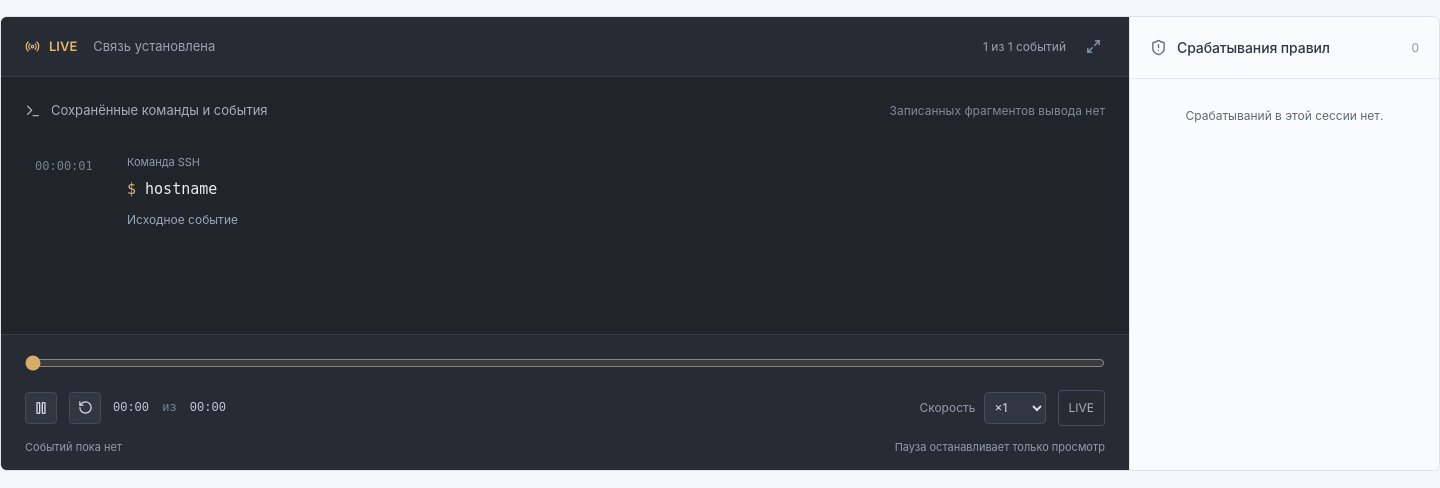
Scenario: session player interactions › retains the paused view on catch-up failure and exposes retry
The width and height of the screenshot is (1440, 488).
Step 1. Click the button named "Приостановить просмотр" → x=41, y=408, box [25,392,57,424]
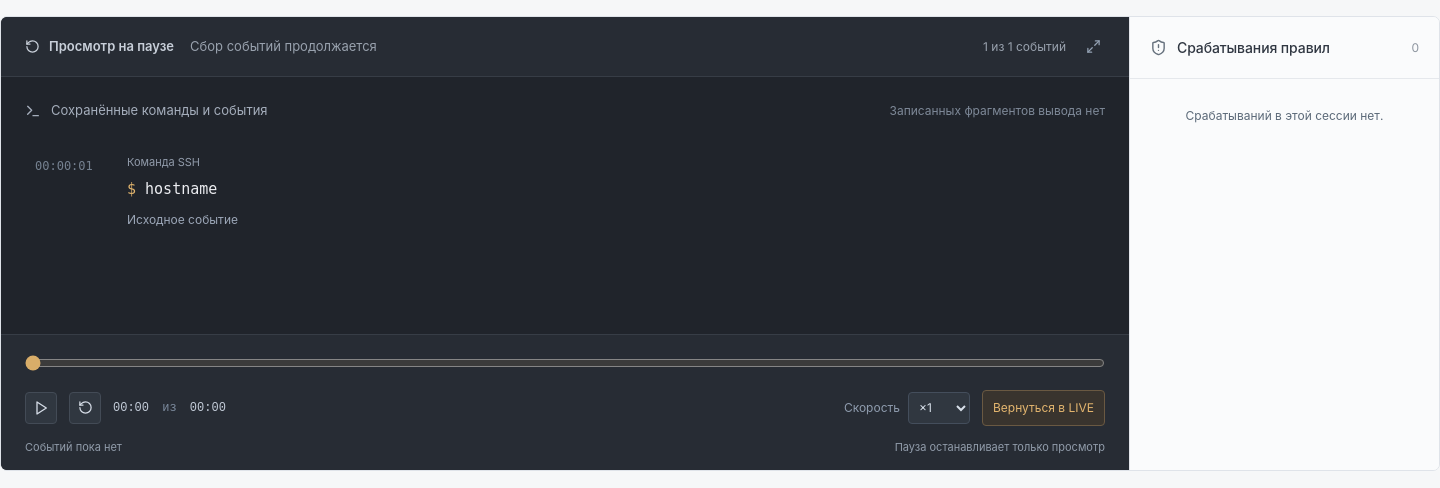
Step 2. Click the button "Вернуться в LIVE" → x=1044, y=408, box [982,390,1105,426]
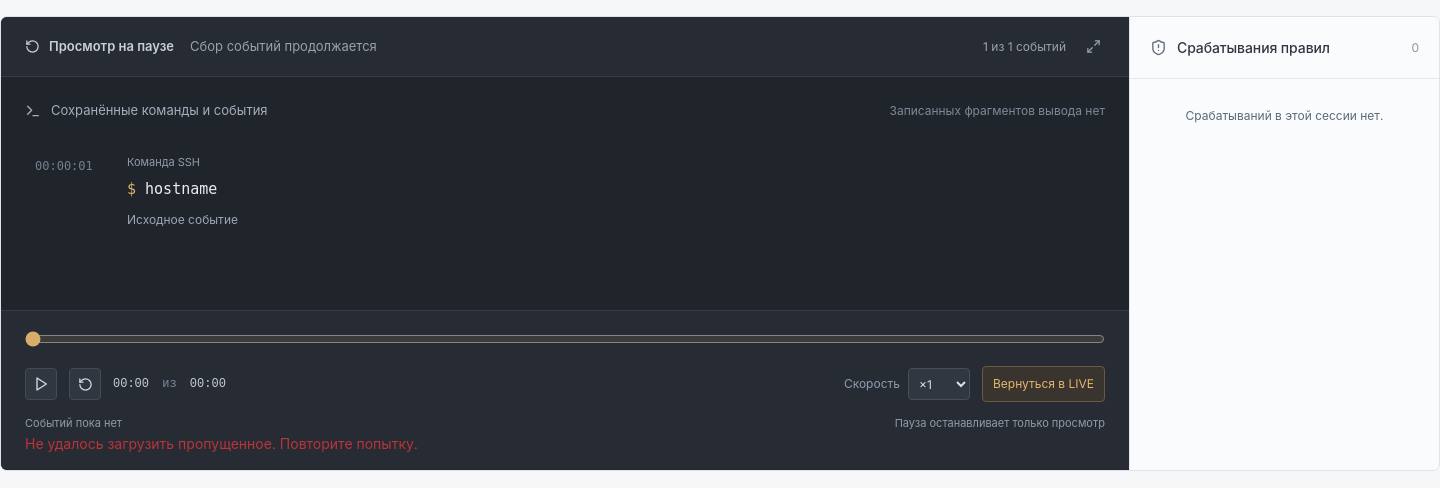
Check: the text "Просмотр на паузе" is shown, box [25,37,174,56]
Check: the message shows "Не удалось", box [25,435,418,452]
